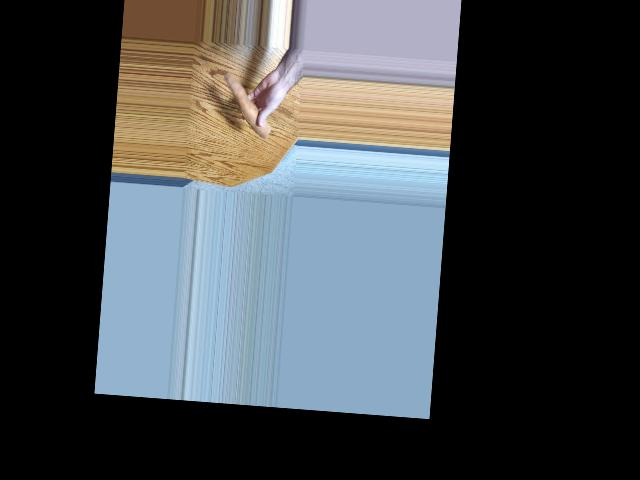sweet_potato: (222, 73, 276, 133)
